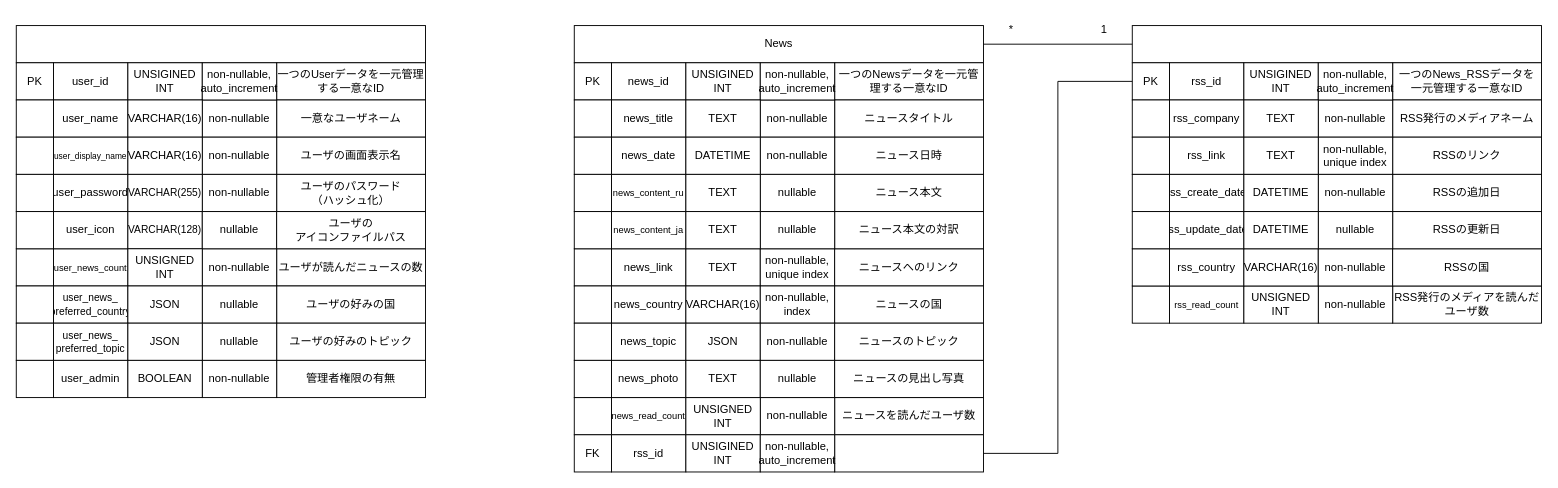
This 1558x488 diagram has some shape labels left out. The centre of each missing label's shape, as x and y in pixels:
"News_RSS" goes at (1336,44).
"User" goes at (220,44).
"ニュースのRSSID" goes at (908,453).
